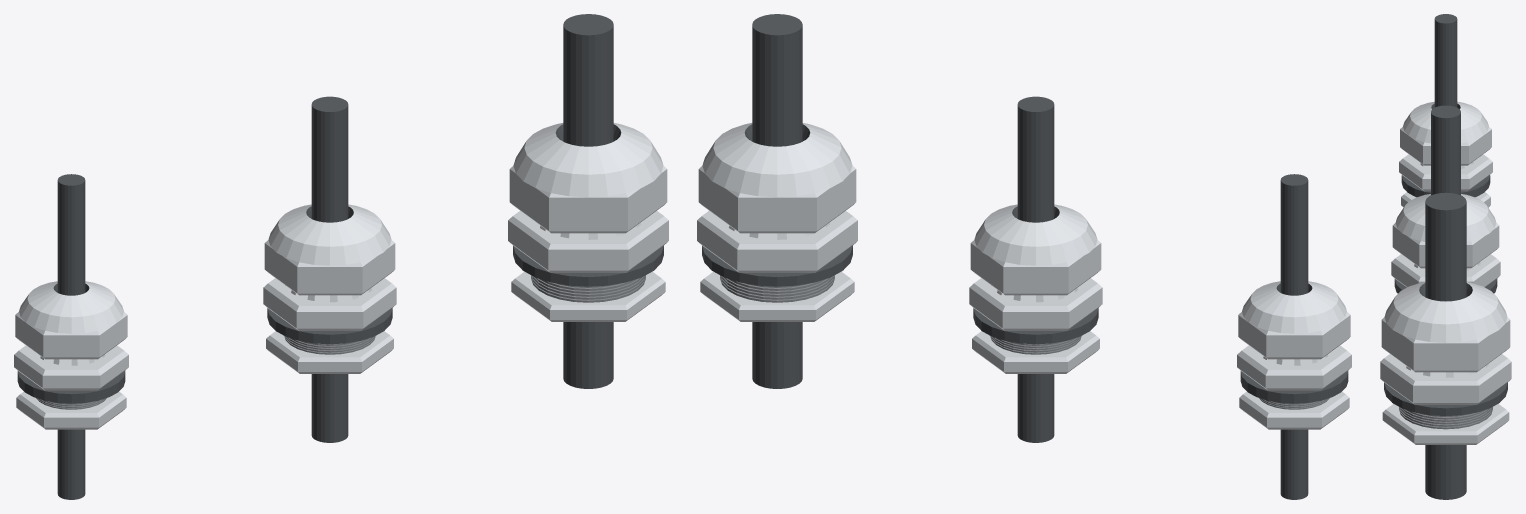
The model's file is SEC_Cable_Gland_Set.fbx.
3 renders of one model, left to right at view 1: azimuth 30°, elevation 25°; view 2: azimuth 150°, elevation 25°; view 3: azimuth 270°, elevation 25°, orthographic. The views are drawn at different scales.
Parts seen in each view (by area): view 1: Gland_Large, Gland_Medium, Gland_Small; view 2: Gland_Large, Gland_Medium, Gland_Small; view 3: Gland_Large, Gland_Medium, Gland_Small.
Part boxes in pixels (left/top/right/bottom): Gland_Large: left=508, top=14, right=668, bottom=388; Gland_Medium: left=263, top=96, right=396, bottom=442; Gland_Small: left=14, top=174, right=128, bottom=499; Gland_Large: left=697, top=14, right=857, bottom=388; Gland_Medium: left=969, top=96, right=1102, bottom=442; Gland_Small: left=1237, top=174, right=1351, bottom=499; Gland_Large: left=1380, top=192, right=1511, bottom=499; Gland_Medium: left=1391, top=105, right=1500, bottom=293; Gland_Small: left=1399, top=14, right=1492, bottom=207.
Bounding box in the file's own units: 15.82 × 8.5 × 3.5.
2 materials, 1 textured.
